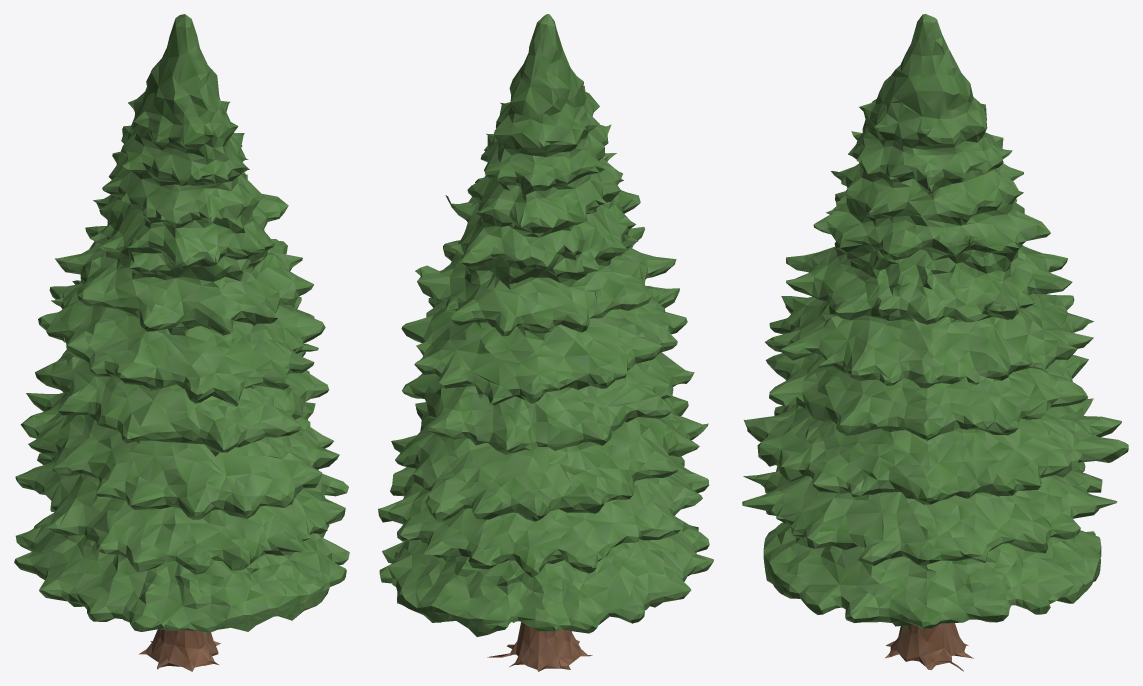
The model's file is cedar_tree.glb.
The picture shows the model from 3 angles, left to right: view 1: azimuth 30°, elevation 25°; view 2: azimuth 150°, elevation 25°; view 3: azimuth 270°, elevation 25°; orthographic projection.
Parts seen in each view (by area): view 1: world; view 2: world; view 3: world.
Part boxes in pixels (box(x1,y1,x2,y2)): world: box(14, 14, 349, 671); world: box(378, 14, 713, 671); world: box(742, 14, 1128, 671).
Bounding box in the file's own units: 2.36 × 5 × 2.74.
